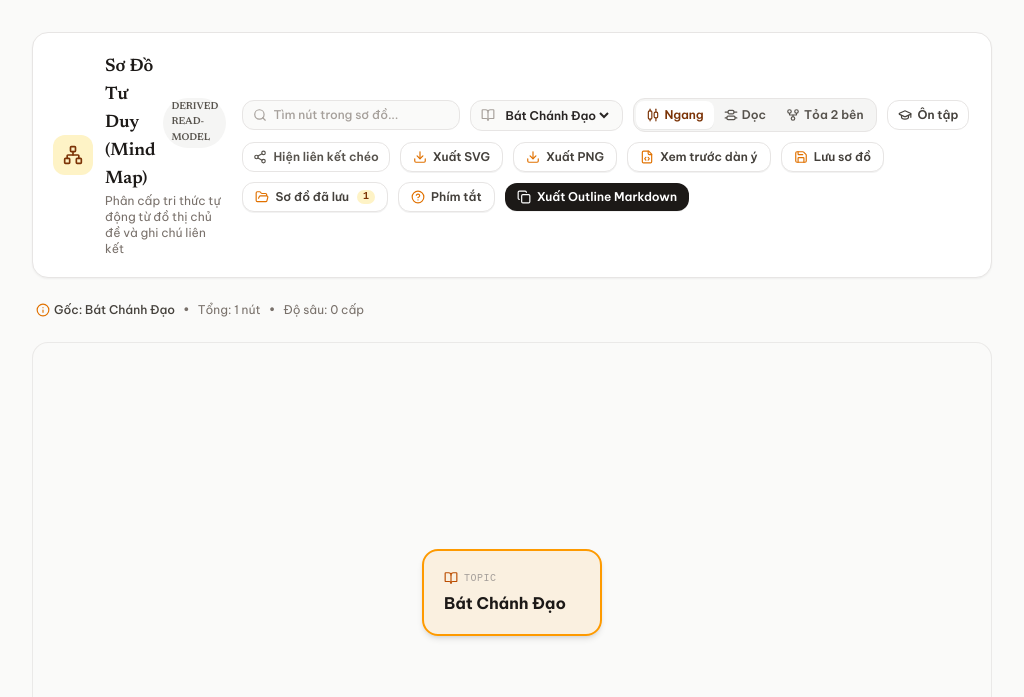
Test: Phase M2 — Inline Node Drawer for Saved Mind Map Documents › Scenario 7: Closing drawer preserves visual selection on canvas
Click the button with test id "btn-open-mindmap-browser". click: [315, 197]
box: [242,182,388,212]
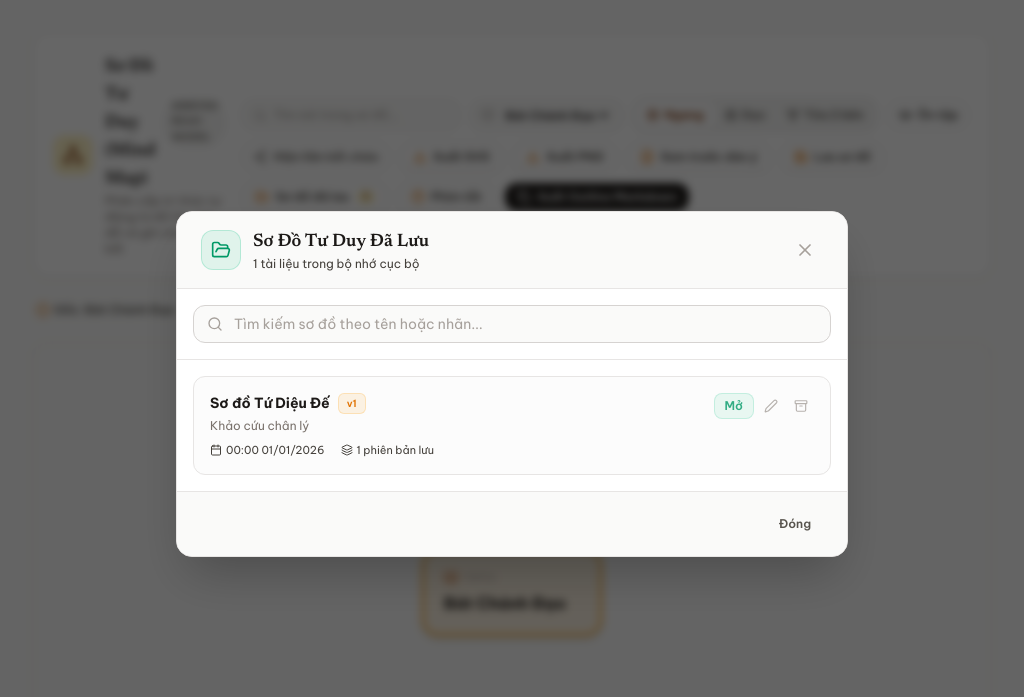
Click the button "Mở". click: [734, 406]
box: [714,393,754,419]
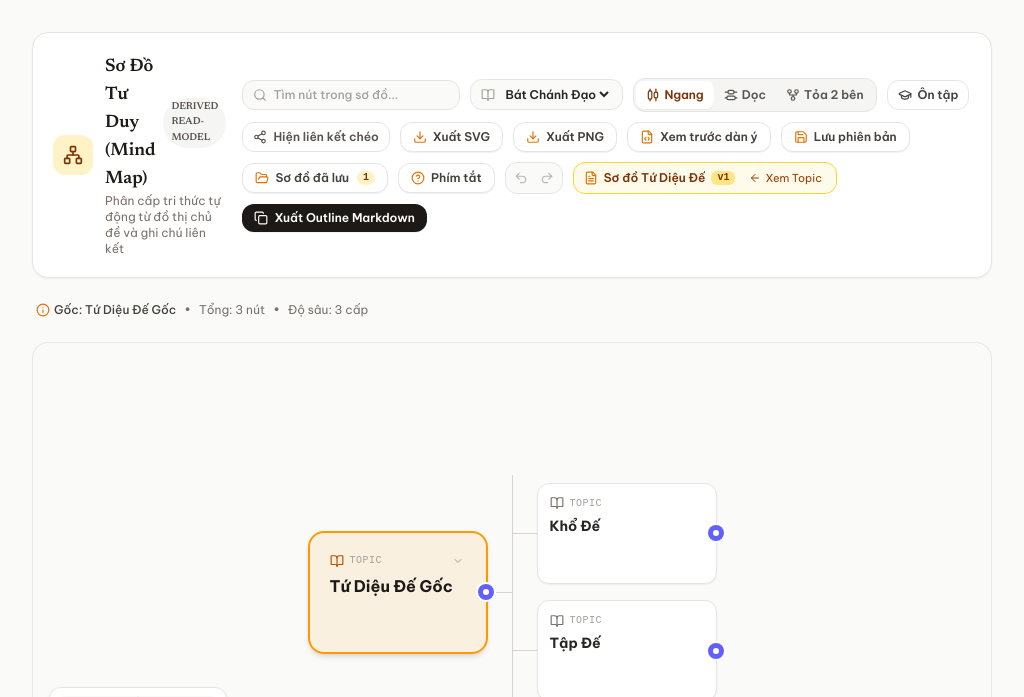
Click the element showing "topic Khổ Đế". click: [626, 533]
box: [536,483,716,584]
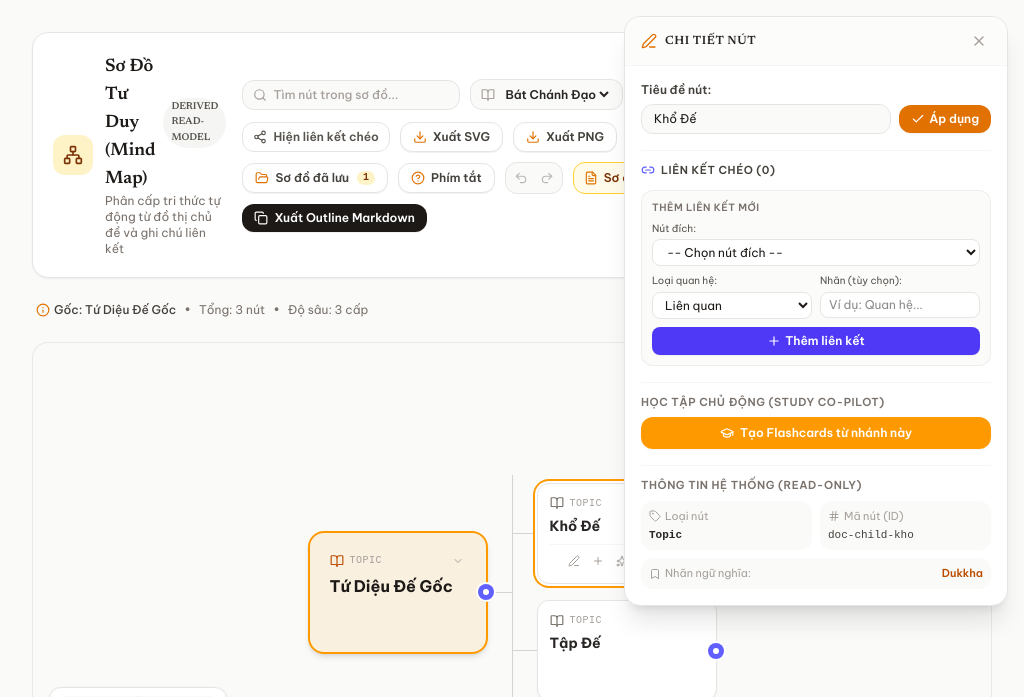
Now the element showing "topic Khổ Đế" has attribute data-selected="true", box [536,483,716,584]
Click the button with test id "btn-close-node-drawer". click: [979, 41]
box: [967,29,991,53]
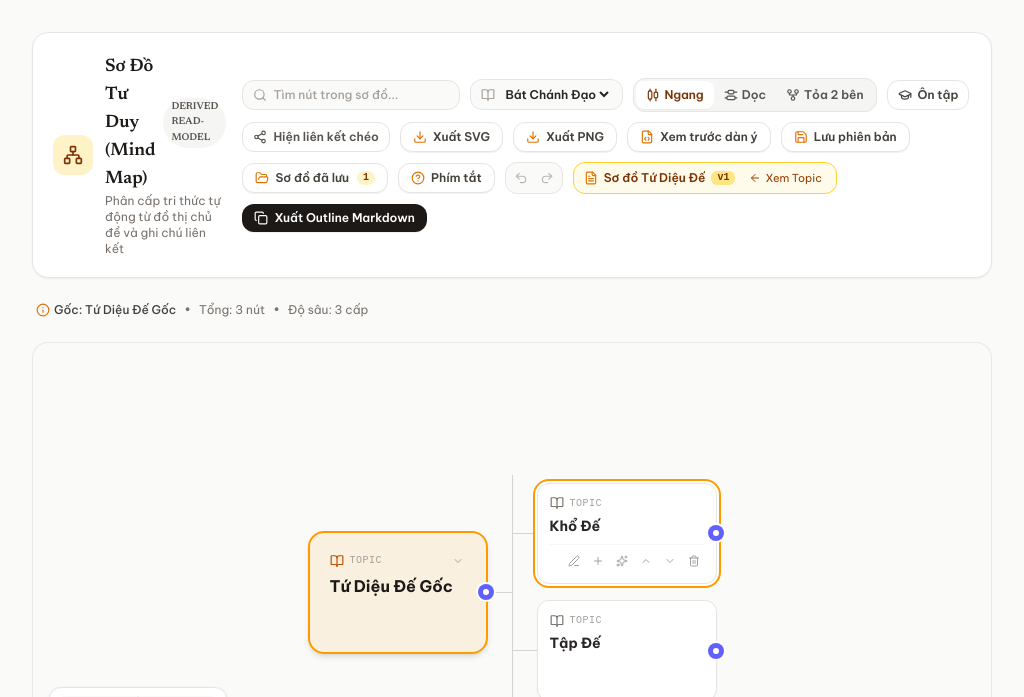
Now the element with test id "mindmap-node-drawer" is gone
